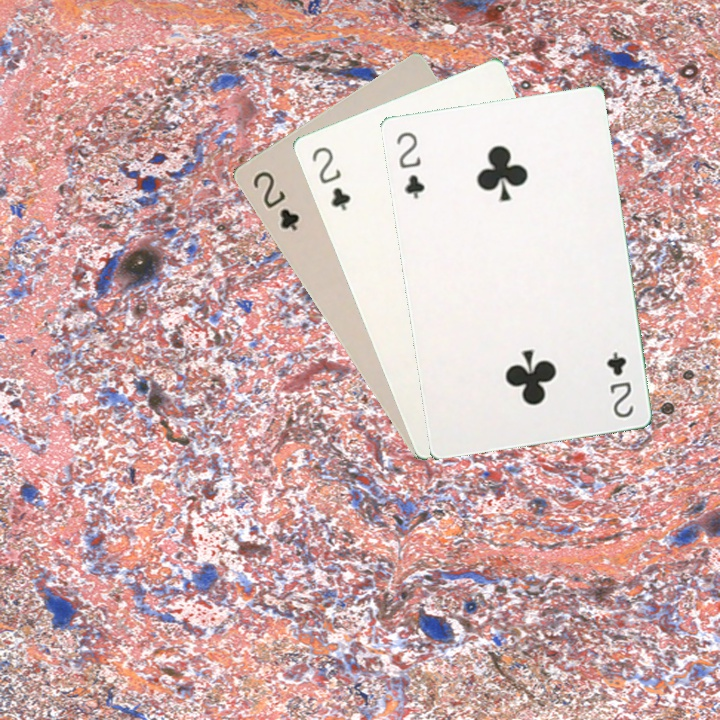2c: (248, 167, 302, 234), (307, 142, 353, 214), (392, 128, 427, 202), (602, 347, 637, 420)
